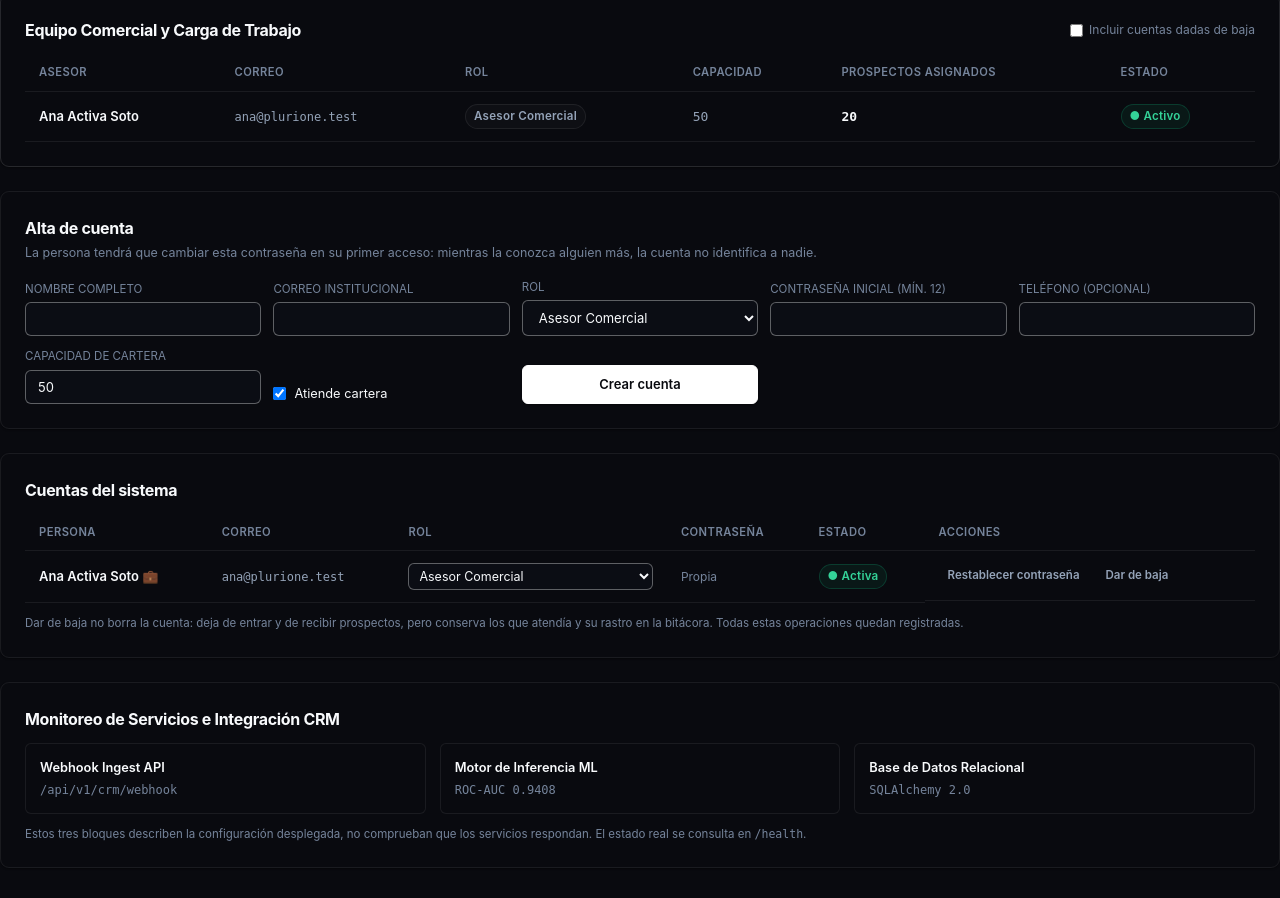
restablecer la contraseña de otra cuenta › los requisitos están a la vista antes de escribir nada
(page scrolled)
Click the button "Restablecer contraseña". click: coordinates (1014, 576)
box: [939, 563, 1088, 588]
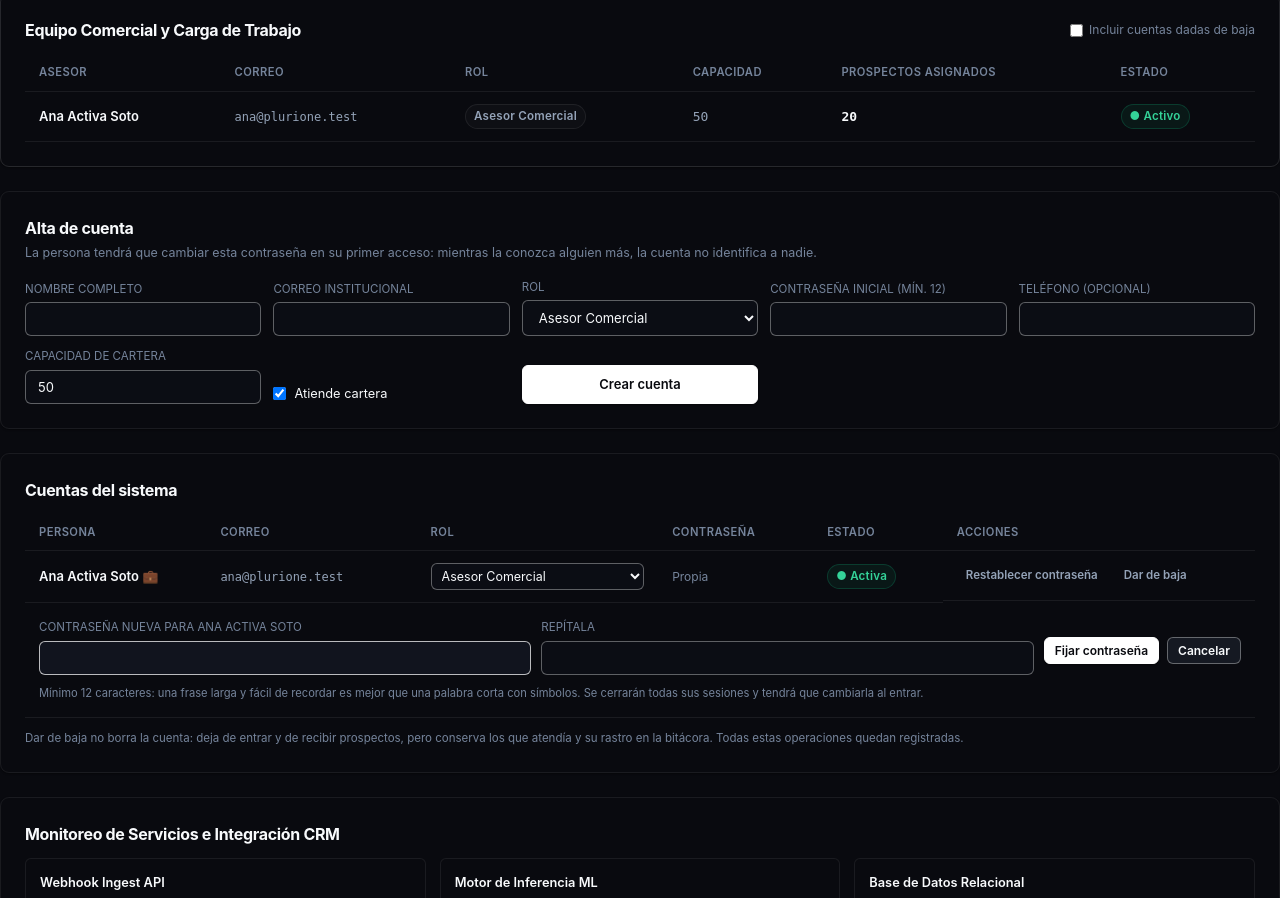
Expected: the text "Se cerrarán todas sus sesiones" is shown, [39, 686, 923, 700]
